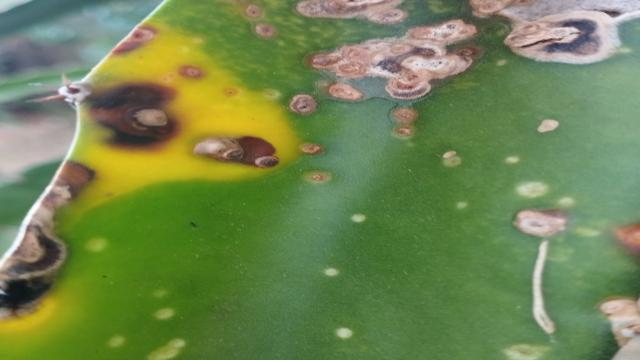stemcanker: (386, 103, 422, 127), (182, 54, 211, 81), (290, 92, 319, 119), (292, 138, 326, 159), (300, 165, 334, 186), (254, 21, 278, 41), (242, 0, 266, 20), (390, 124, 414, 139)
